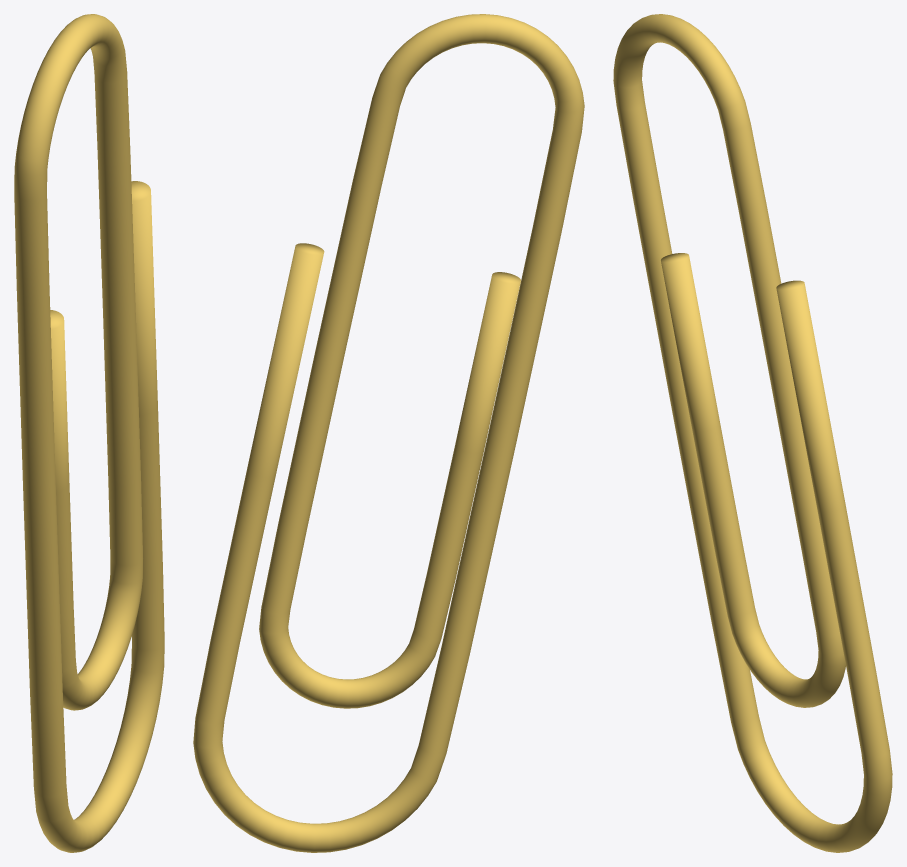
The picture shows the model from 3 angles, left to right: view 1: azimuth 30°, elevation 25°; view 2: azimuth 150°, elevation 25°; view 3: azimuth 270°, elevation 25°; orthographic projection. The views are drawn at different scales.
Visible parts, largest first — view 1: Cylinder.006; view 2: Cylinder.006; view 3: Cylinder.006.
Part boxes in pixels (box(x1,y1,x2,y2)): Cylinder.006: box(14, 14, 164, 852); Cylinder.006: box(193, 14, 584, 852); Cylinder.006: box(613, 14, 892, 852).
Size of the model in its own units: 0.4054 by 1.2 by 0.3886.
